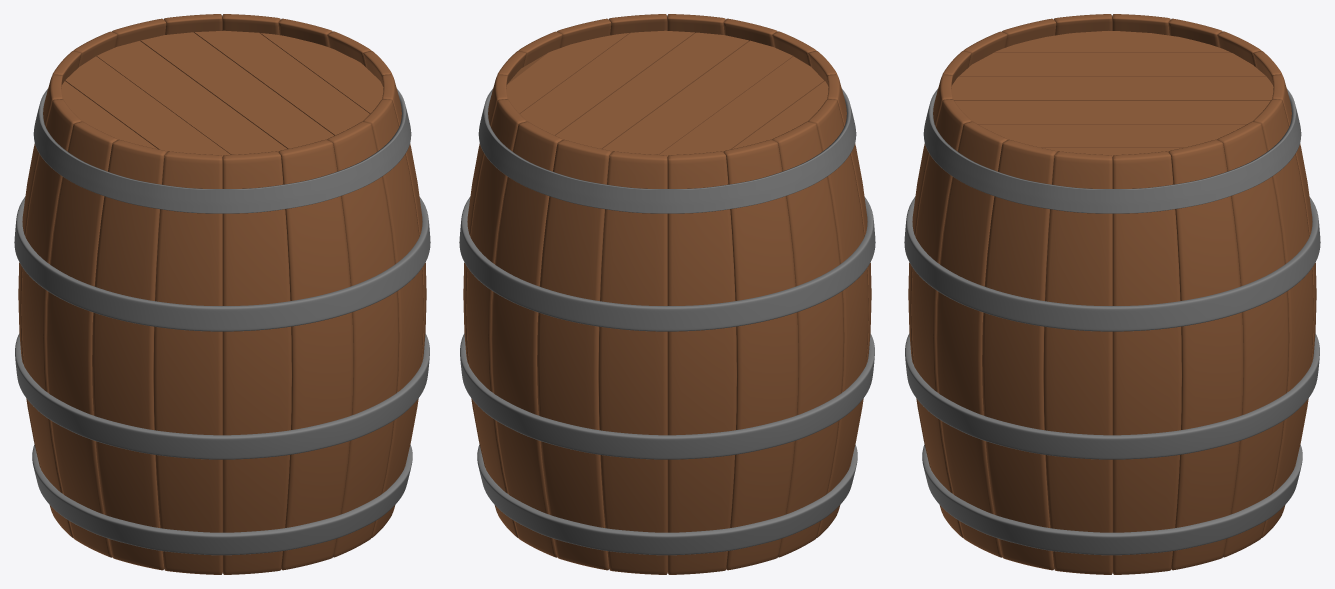
Rendered from Fass.fbx.
3 views of the same model, side by side, from view 1: azimuth 30°, elevation 25°; view 2: azimuth 150°, elevation 25°; view 3: azimuth 270°, elevation 25° (orthographic).
Visible parts, largest first — view 1: Barrel_Plank, Band_oben.002, Band_oben.003, Band_oben, Band_oben.001, Holzlatte4, Holzlatte, Holzlatte5, Holzlatte2, Holzlatte6, Holzlatte1; view 2: Barrel_Plank, Band_oben.002, Band_oben.003, Band_oben, Band_oben.001, Holzlatte4, Holzlatte, Holzlatte5, Holzlatte2, Holzlatte6, Holzlatte1; view 3: Barrel_Plank, Band_oben.002, Band_oben.003, Band_oben, Band_oben.001, Holzlatte, Holzlatte4, Holzlatte2, Holzlatte5, Holzlatte1, Holzlatte6.
Boxes of the visible parts, x1,y1,x2,y2 form: Barrel_Plank: (18,14,426,574); Band_oben.002: (14,197,430,331); Band_oben.003: (15,333,429,459); Band_oben: (33,89,411,213); Band_oben.001: (32,444,412,555); Holzlatte4: (140,32,334,148); Holzlatte: (96,41,286,154); Holzlatte5: (194,30,369,135); Holzlatte2: (65,56,230,156); Holzlatte6: (260,33,383,113); Holzlatte1: (61,81,157,148); Barrel_Plank: (463,14,871,574); Band_oben.002: (459,197,875,331); Band_oben.003: (460,333,874,459); Band_oben: (478,89,856,213); Band_oben.001: (477,444,857,555); Holzlatte4: (555,32,749,148); Holzlatte: (603,40,793,154); Holzlatte5: (520,30,695,135); Holzlatte2: (659,56,824,156); Holzlatte6: (506,33,629,113); Holzlatte1: (732,81,828,148); Barrel_Plank: (908,14,1316,574); Band_oben.002: (904,197,1320,331); Band_oben.003: (905,333,1319,459); Band_oben: (923,89,1301,213); Band_oben.001: (922,444,1302,555); Holzlatte: (951,76,1273,100); Holzlatte4: (954,100,1270,124); Holzlatte2: (959,53,1266,76); Holzlatte5: (978,124,1246,147); Holzlatte1: (993,31,1231,52); Holzlatte6: (1043,148,1181,156).
Bounding box in the file's own units: 58.47 × 64.57 × 58.44.
